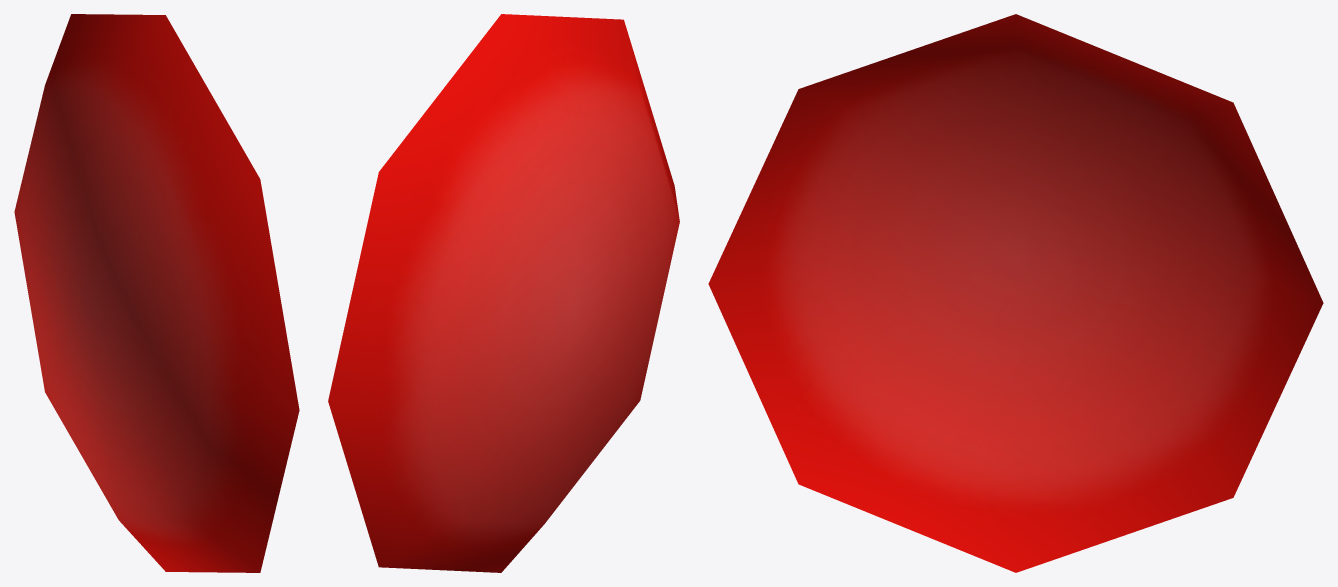
The model's file is cart_2_glow.glb.
3 renders of one model, left to right at view 1: azimuth 30°, elevation 25°; view 2: azimuth 150°, elevation 25°; view 3: azimuth 270°, elevation 25°, orthographic.
Parts seen in each view (by area): view 1: lightHaloR.jpg__; view 2: lightHaloR.jpg__; view 3: lightHaloR.jpg__.
Part boxes in pixels (bbox=[...]): lightHaloR.jpg__: bbox=[14, 14, 299, 572]; lightHaloR.jpg__: bbox=[328, 14, 679, 572]; lightHaloR.jpg__: bbox=[708, 14, 1323, 572].
Bounding box in the file's own units: 0.0623 × 0.3547 × 0.3537.
1 material, 1 textured.
